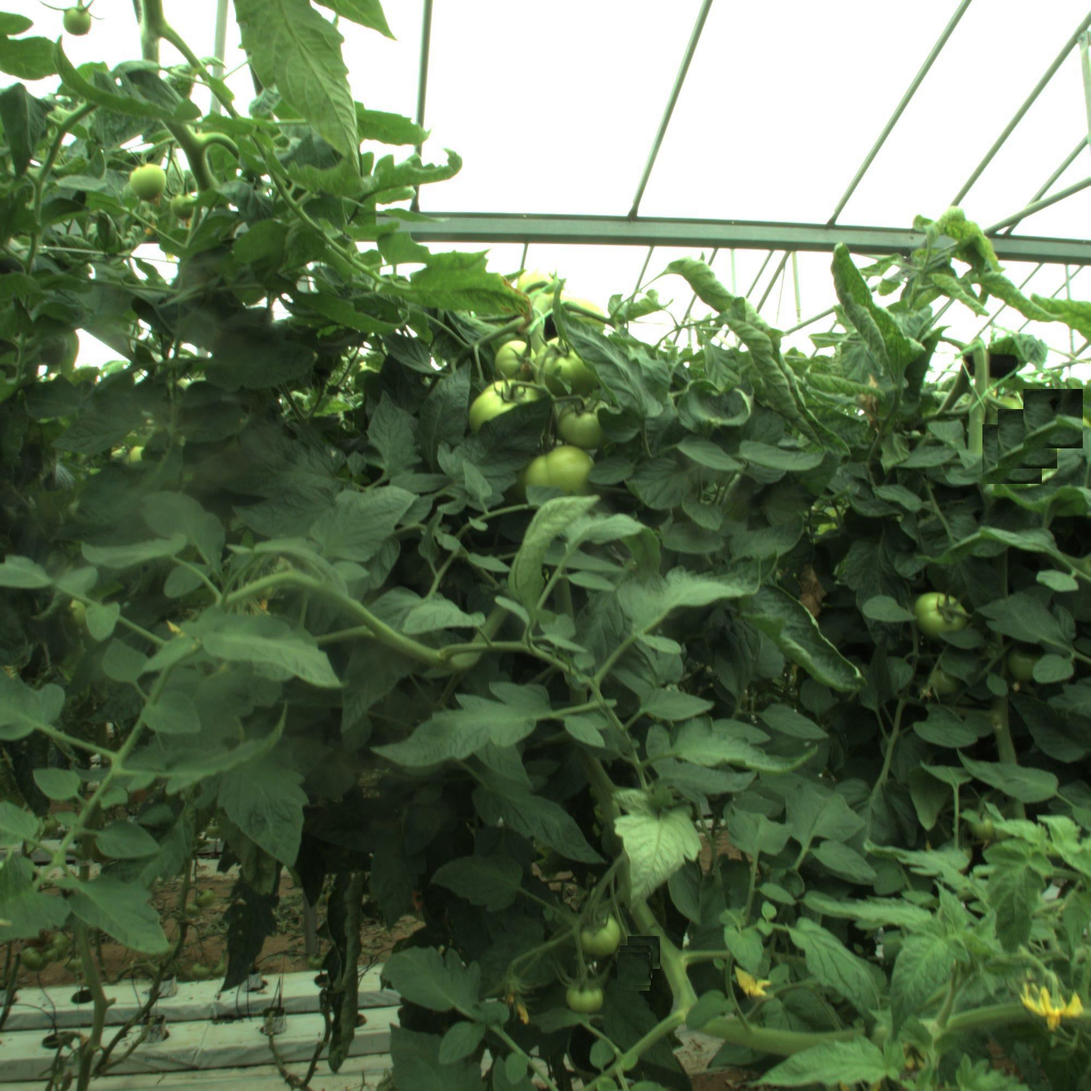unripe: (474, 382, 543, 451), (537, 330, 604, 398), (527, 447, 592, 511), (555, 394, 610, 448), (910, 584, 964, 639), (581, 915, 626, 960), (494, 339, 538, 383), (129, 164, 169, 204), (565, 980, 600, 1015)
